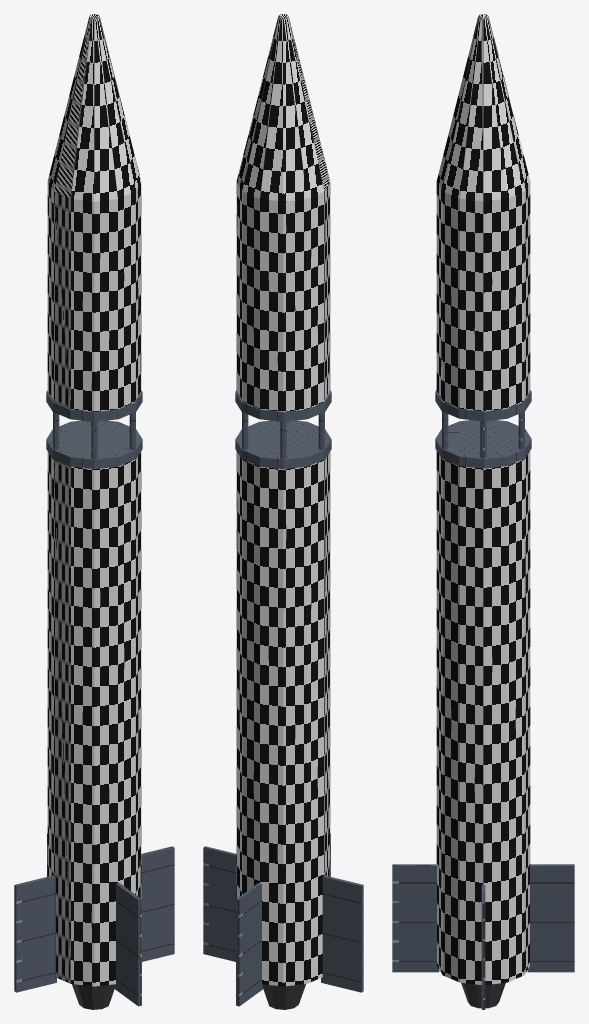
The model's file is vektor_light.glb.
3 renders of one model, left to right at view 1: azimuth 30°, elevation 25°; view 2: azimuth 150°, elevation 25°; view 3: azimuth 270°, elevation 25°, orthographic.
Visible parts, largest first — view 1: vektor_light; view 2: vektor_light; view 3: vektor_light.
Part boxes in pixels (left/top/right/bottom): vektor_light: left=14, top=14, right=174, bottom=1009; vektor_light: left=203, top=14, right=363, bottom=1009; vektor_light: left=392, top=14, right=574, bottom=1009.
Size of the model in its own units: 0.7 by 4.18 by 0.7.
Materials: 3 (2 with a texture image).
